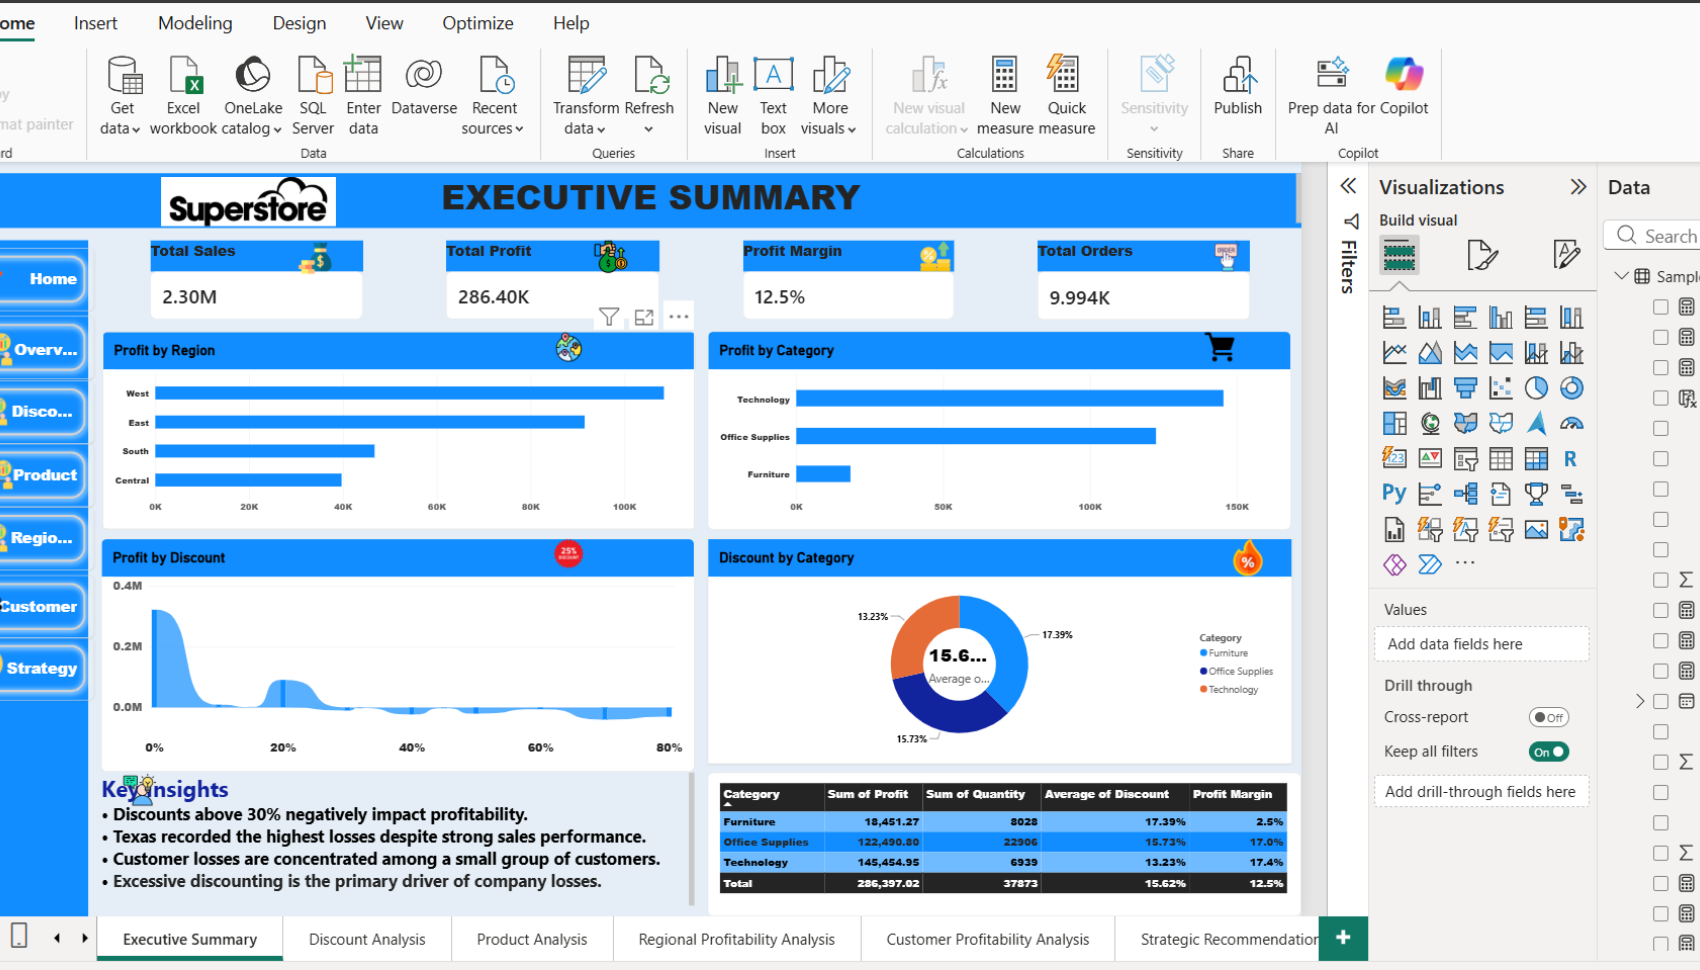

What the dashboard file says about the page in this screenshot:
{"tool":"powerbi","page":{"name":"Executive Summary","canvas":[1920,1080],"ordinal":2},"visuals":[{"type":"cardVisual","title":"Total Sales","fields":{"Data":["Sum(Sample - Superstore.Sales)"]},"box":[271.4,112.2,304.9,113.5],"z":0},{"type":"cardVisual","title":"Total Profit","fields":{"Data":["Sum(Sample - Superstore.Profit)"]},"box":[695.6,112.2,305.6,113.5],"z":1000},{"type":"cardVisual","title":"Profit Margin","fields":{"Data":["Sample - Superstore.Profit Margin"]},"box":[1120.4,112.2,302.2,113.5],"z":2000},{"type":"textbox","box":[200.4,873.3,849.9,207.1],"z":3000},{"type":"clusteredBarChart","title":"Profit by Category","fields":{"Category":["Sample - Superstore.Category"],"Y":["Sum(Sample - Superstore.Profit)"]},"box":[1070.3,242.1,834.9,283.9],"z":4000},{"type":"clusteredBarChart","title":" Profit by Region","fields":{"Category":["Sample - Superstore.Region"],"Y":["Sum(Sample - Superstore.Profit)"]},"box":[202,242.1,849.9,283.9],"z":5000},{"type":"ribbonChart","title":"Profit by Discount","fields":{"Category":["Sample - Superstore.Discount"],"Y":["Sum(Sample - Superstore.Profit)"]},"box":[200.4,539.3,849.9,334],"z":6000},{"type":"textbox","box":[0,16.7,1920.2,78.5],"z":7000},{"type":"image","box":[1370,111.7,51.7,46.7],"z":9000},{"type":"image","box":[870.4,112.2,121.2,47.1],"z":10000},{"type":"image","box":[439.7,114,135.7,47.1],"z":11000},{"type":"image","box":[211.7,874.1,88.7,48.9],"z":12000},{"type":"image","box":[789,244.3,162.9,41.6],"z":13000},{"type":"image","box":[1735.5,242.5,133.9,43.4],"z":14000},{"type":"image","box":[805.3,539.3,130.3,43.4],"z":15000},{"type":"cardVisual","title":"Total Orders","fields":{"Data":["CountNonNull(Sample - Superstore.Order ID)"]},"box":[1541.8,112.2,304,114],"z":16000},{"type":"donutChart","title":" Discount by Category","fields":{"Category":["Sample - Superstore.Category"],"Y":["Avg(Sample - Superstore.Discount)"]},"box":[1070.3,539.3,836.6,322.3],"z":17000},{"type":"image","box":[1801.7,540,81.7,53.3],"z":18000},{"type":"image","box":[1780,111.7,65,45],"z":19000},{"type":"tableEx","fields":{"Values":["Sample - Superstore.Category","Sum(Sample - Superstore.Profit)","Sum(Sample - Superstore.Quantity)","Avg(Sample - Superstore.Discount)","Sample - Superstore.Profit Margin"]},"box":[1070.3,875,849.9,205.4],"z":20000},{"type":"image","box":[286.7,21.7,251.7,70],"z":21000},{"type":"textbox","box":[0,111.9,182,968.5],"z":22000},{"type":"actionButton","box":[0,123.6,190,90],"z":23000,"group":"g1"},{"type":"actionButton","box":[0,220.4,190,90],"z":24000,"group":"g1"},{"type":"actionButton","box":[0,494.3,190,90],"z":25000,"group":"g1"},{"type":"actionButton","box":[0,681.3,190,90],"z":26000,"group":"g1"},{"type":"actionButton","box":[0,314,190,90],"z":27000,"group":"g1"},{"type":"actionButton","box":[0,404.1,190,90],"z":28000,"group":"g1"},{"type":"actionButton","box":[0,592.8,190,90],"z":29000,"group":"g1"},{"type":"group","id":"g1","title":"Group 1","box":[0,123.6,190,647.7],"z":29001}]}

Visuals, with their boxes on the page's 1920x1080 design canvas (x1, y1, x2, y2). These are canvas units, not pixel positions in the 1700x970 screenshot, which may show the page scaled, cropped or inside an application window:
"Total Sales" cardVisual: BBox(271, 112, 576, 226)
"Total Profit" cardVisual: BBox(696, 112, 1001, 226)
"Profit Margin" cardVisual: BBox(1120, 112, 1423, 226)
textbox: BBox(200, 873, 1050, 1080)
"Profit by Category" clusteredBarChart: BBox(1070, 242, 1905, 526)
" Profit by Region" clusteredBarChart: BBox(202, 242, 1052, 526)
"Profit by Discount" ribbonChart: BBox(200, 539, 1050, 873)
textbox: BBox(0, 17, 1920, 95)
image: BBox(1370, 112, 1422, 158)
image: BBox(870, 112, 992, 159)
image: BBox(440, 114, 575, 161)
image: BBox(212, 874, 300, 923)
image: BBox(789, 244, 952, 286)
image: BBox(1736, 242, 1869, 286)
image: BBox(805, 539, 936, 583)
"Total Orders" cardVisual: BBox(1542, 112, 1846, 226)
" Discount by Category" donutChart: BBox(1070, 539, 1907, 862)
image: BBox(1802, 540, 1883, 593)
image: BBox(1780, 112, 1845, 157)
tableEx - Sample - Superstore.Category x Sum(Sample - Superstore.Profit): BBox(1070, 875, 1920, 1080)
image: BBox(287, 22, 538, 92)
textbox: BBox(0, 112, 182, 1080)
actionButton: BBox(0, 124, 190, 214)
actionButton: BBox(0, 220, 190, 310)
actionButton: BBox(0, 494, 190, 584)
actionButton: BBox(0, 681, 190, 771)
actionButton: BBox(0, 314, 190, 404)
actionButton: BBox(0, 404, 190, 494)
actionButton: BBox(0, 593, 190, 683)
"Group 1" group: BBox(0, 124, 190, 771)
